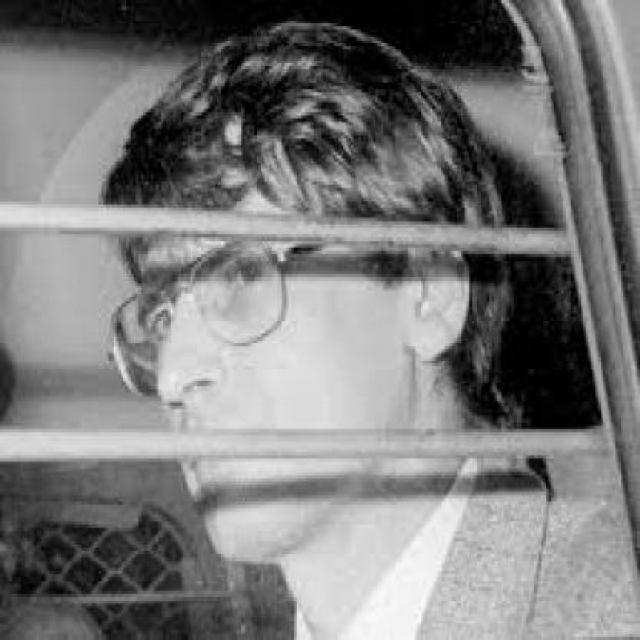glasses: (96, 234, 296, 406)
